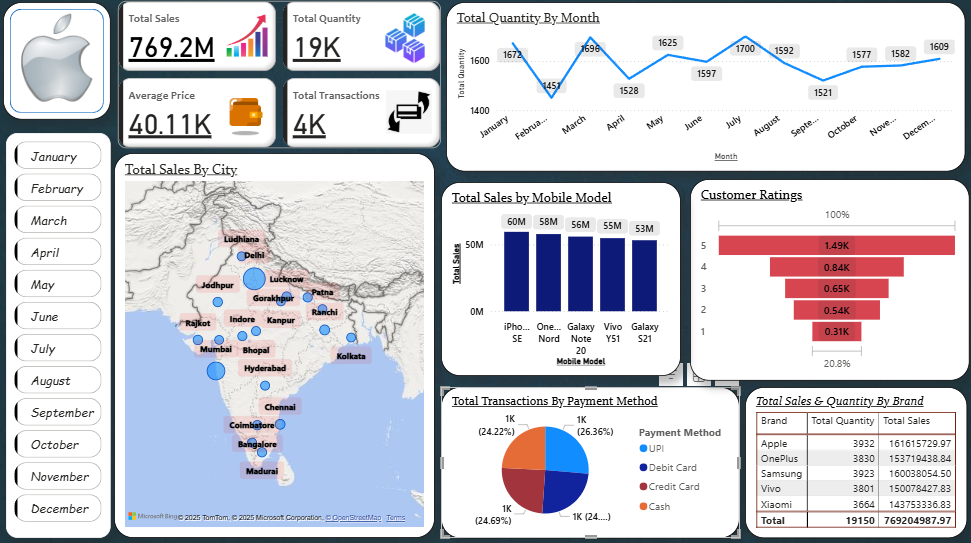

This screenshot's page, from the dashboard's own definition file:
{"tool":"powerbi","page":{"name":"Mobile Sales Dashboard","canvas":[1280,720],"ordinal":0},"visuals":[{"type":"shape","box":[7.3,7.3,141.1,154.3],"z":0},{"type":"advancedSlicerVisual","fields":{"Values":["Sales_Data.Date.Variation.Date Hierarchy.Month"]},"box":[11.8,179.3,136.7,530.4],"z":2000},{"type":"cardVisual","fields":{"Data":["Sales_Data.Total_Sales","Sales_Data.Total Quantity","Sales_Data.Average Price Per Unit","Sales_Data.Total Transactions"]},"box":[152.8,1.5,434.9,204.2],"z":3000},{"type":"map","title":"Total Sales By City","fields":{"Category":["Sales_Data.City"],"Size":["Sales_Data.Total Sales"]},"box":[152.8,205.7,420.2,504],"z":4000},{"type":"lineChart","title":"Total Quantity By Month","fields":{"Y":["Sales_Data.Total Quantity"],"Category":["Sales_Data.Date.Variation.Date Hierarchy.Month","Sales_Data.Date.Variation.Date Hierarchy.Day"]},"box":[587.8,7.3,680.3,221.9],"z":5000},{"type":"pieChart","title":"Total Transactions By Payment Method","fields":{"Category":["Sales_Data.Payment Method"],"Y":["Sales_Data.Total Transactions"]},"box":[581.9,511.3,390.9,198.4],"z":6000},{"type":"funnel","title":"Customer Ratings","fields":{"Category":["Sales_Data.Customer Ratings"],"Y":["CountNonNull(Sales_Data.Customer Ratings)"]},"box":[906.6,239.5,365.9,264.5],"z":7000},{"type":"clusteredColumnChart","fields":{"Category":["Sales_Data.Mobile Model"],"Y":["Sales_Data.Total Sales"]},"box":[581.9,243.9,314.4,254.2],"z":8000},{"type":"tableEx","title":"Total Sales & Quantity By Brand","fields":{"Values":["Sales_Data.Brand","Sales_Data.Total Quantity","Sales_Data.Total Sales"]},"box":[978.6,511.3,290.9,198.4],"z":9000},{"type":"image","box":[15.1,17.9,125.2,125.2],"z":10000}]}

Visuals, with their boxes in screenshot pixels (x1, y1, x2, y2), scaled from the page's 1280x720 canvas onto the 971x543 screenshot:
shape: locate(6, 6, 113, 122)
advancedSlicerVisual - Sales_Data.Date.Variation.Date Hierarchy.Month: locate(9, 135, 113, 535)
cardVisual - Sales_Data.Total_Sales x Sales_Data.Total Quantity: locate(116, 1, 446, 155)
"Total Sales By City" map: locate(116, 155, 435, 535)
"Total Quantity By Month" lineChart: locate(446, 6, 962, 173)
"Total Transactions By Payment Method" pieChart: locate(441, 386, 738, 535)
"Customer Ratings" funnel: locate(688, 181, 965, 380)
clusteredColumnChart - Sales_Data.Mobile Model x Sales_Data.Total Sales: locate(441, 184, 680, 376)
"Total Sales & Quantity By Brand" tableEx: locate(742, 386, 963, 535)
image: locate(11, 13, 106, 108)
